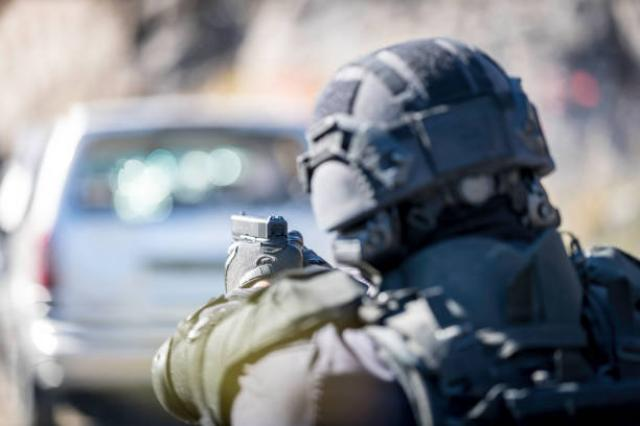other: (172, 45, 640, 417)
